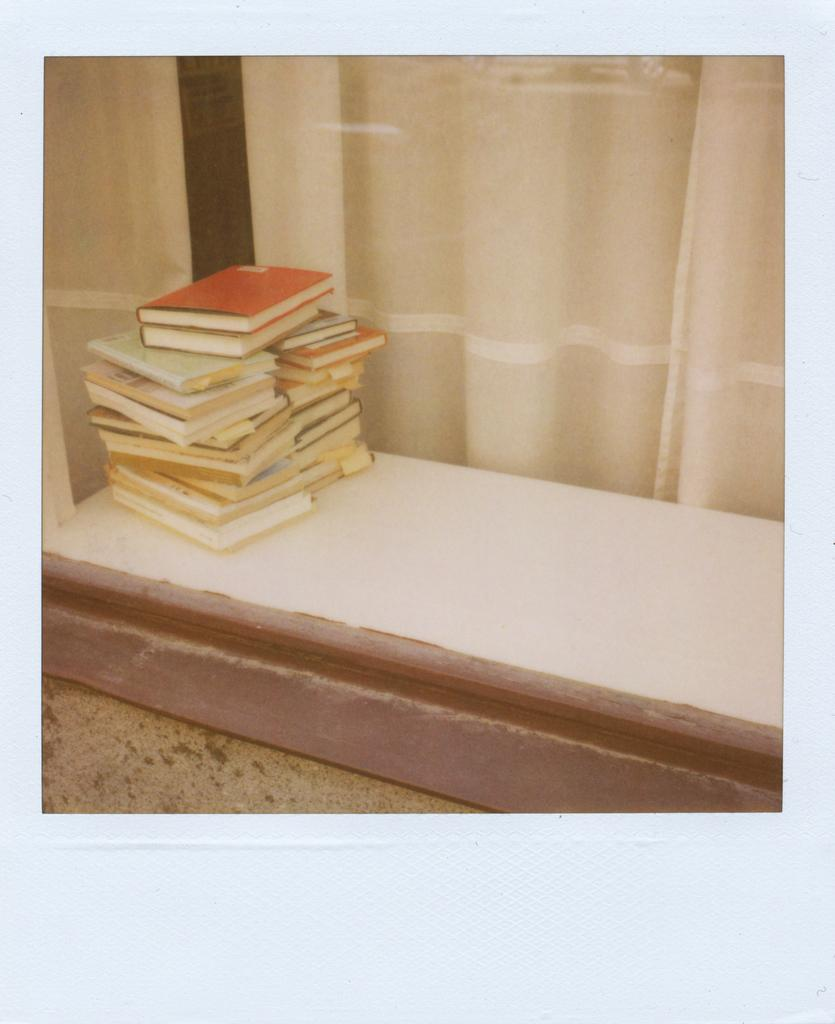book: (79, 266, 388, 552)
